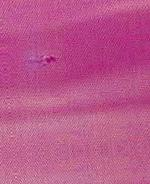knot: (41, 51, 60, 69)
